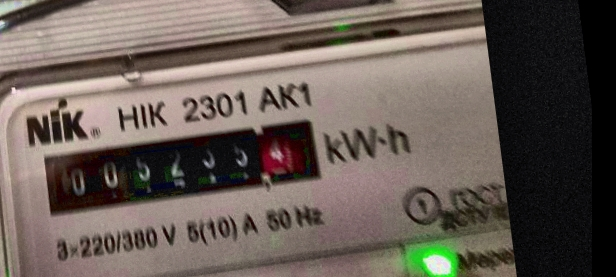0: (98, 155, 122, 190), (67, 163, 88, 196)
2: (163, 144, 188, 180)
3: (194, 137, 222, 173)
4: (263, 129, 289, 167)
5: (228, 132, 254, 171), (131, 149, 154, 184)
screen: (24, 104, 335, 228)
